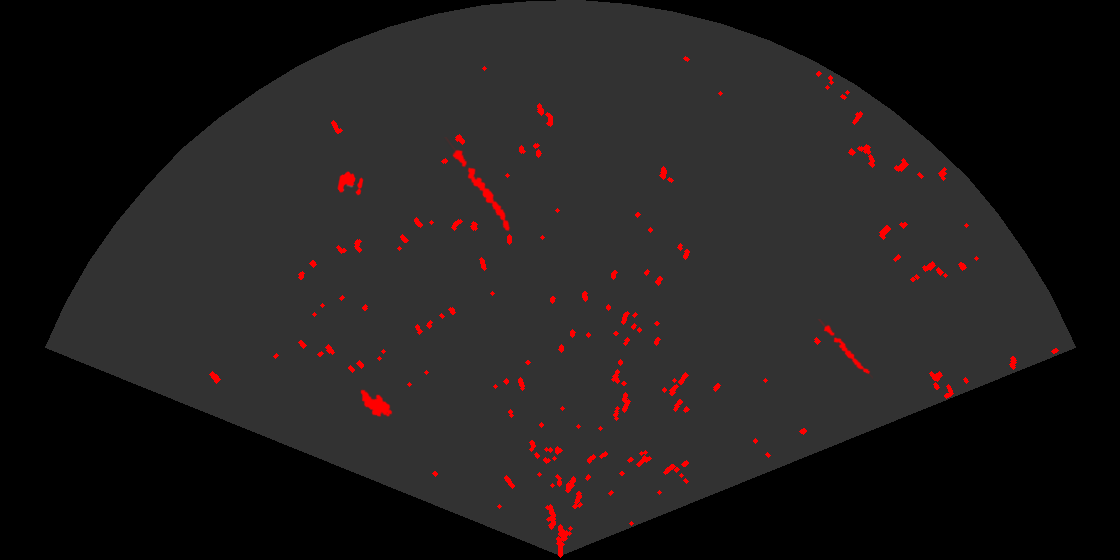AUV: (359, 388, 394, 419)
ball: (336, 170, 365, 197)
chain: (444, 137, 512, 233), (816, 319, 873, 380)
